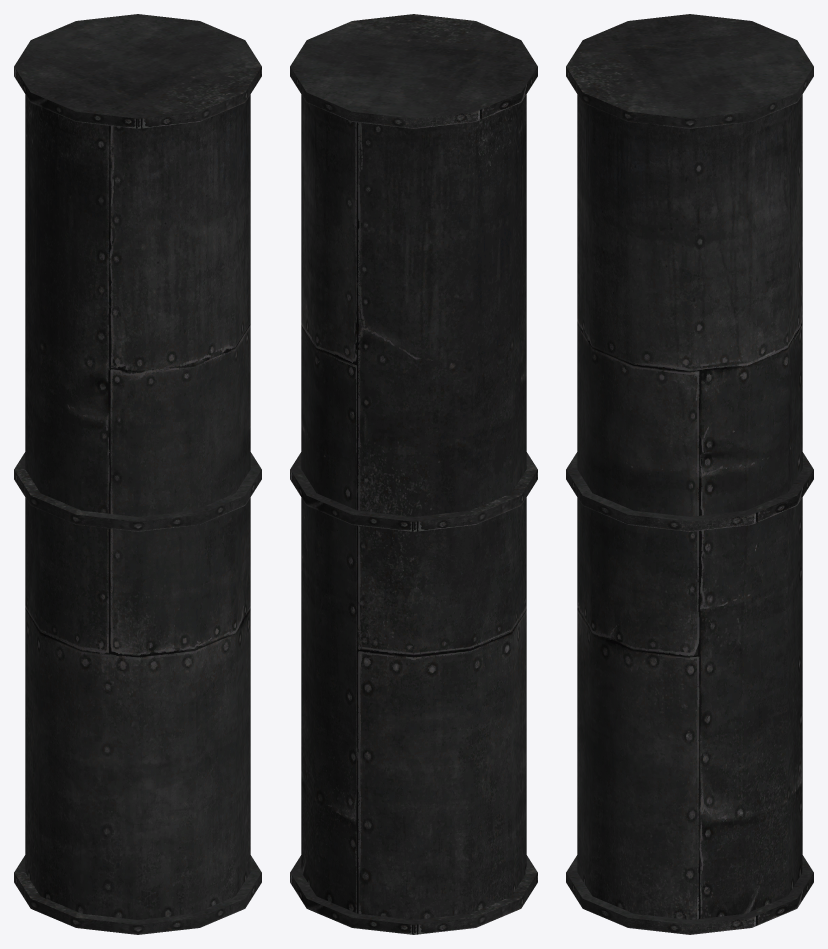
File: ventilation_pipe_4m_dark.DAE
3 views of the same model, side by side, from view 1: azimuth 30°, elevation 25°; view 2: azimuth 150°, elevation 25°; view 3: azimuth 270°, elevation 25° (orthographic).
Visible parts, largest first — view 1: Cylinder007; view 2: Cylinder007; view 3: Cylinder007.
Part boxes in pixels (<box>): Cylinder007: <box>14,14,261,934</box>; Cylinder007: <box>290,14,537,934</box>; Cylinder007: <box>566,14,813,934</box>.
Size of the model in its own units: 1.1 by 4 by 1.1.
